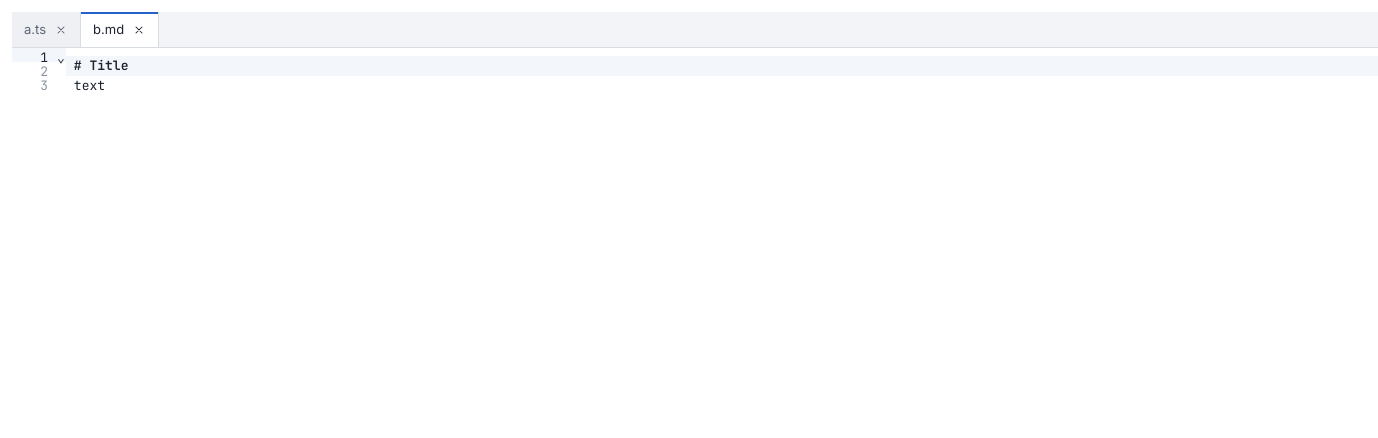
Test: tabs and editor host › cycles with tab.next / tab.prev and closes with tab.close and the close button
Click the button named "Close a.ts": (61,30) 50,18 -> 72,40
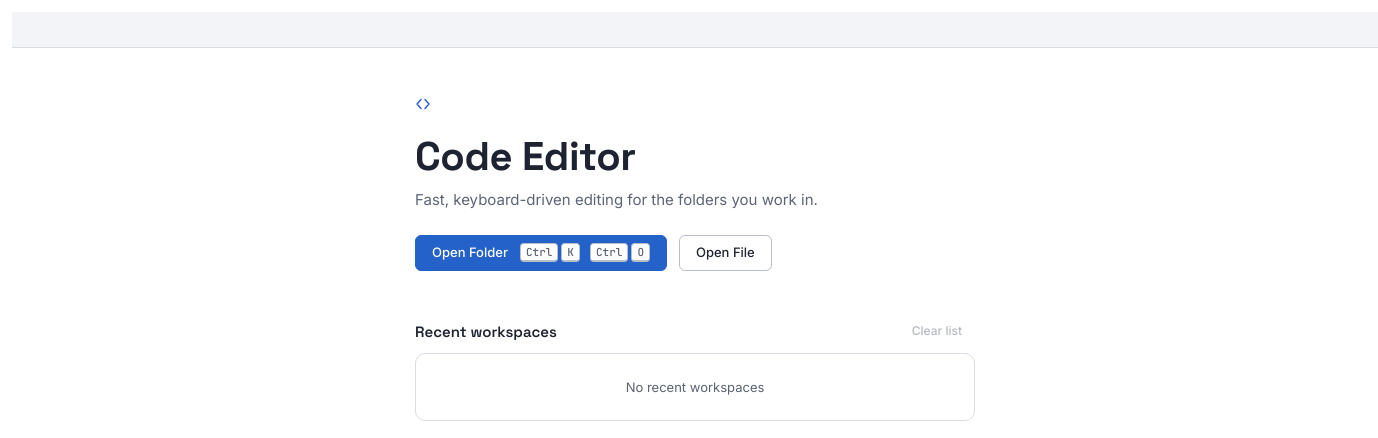
Now the element with test id "welcome" is shown, box 415,96 -> 975,421
